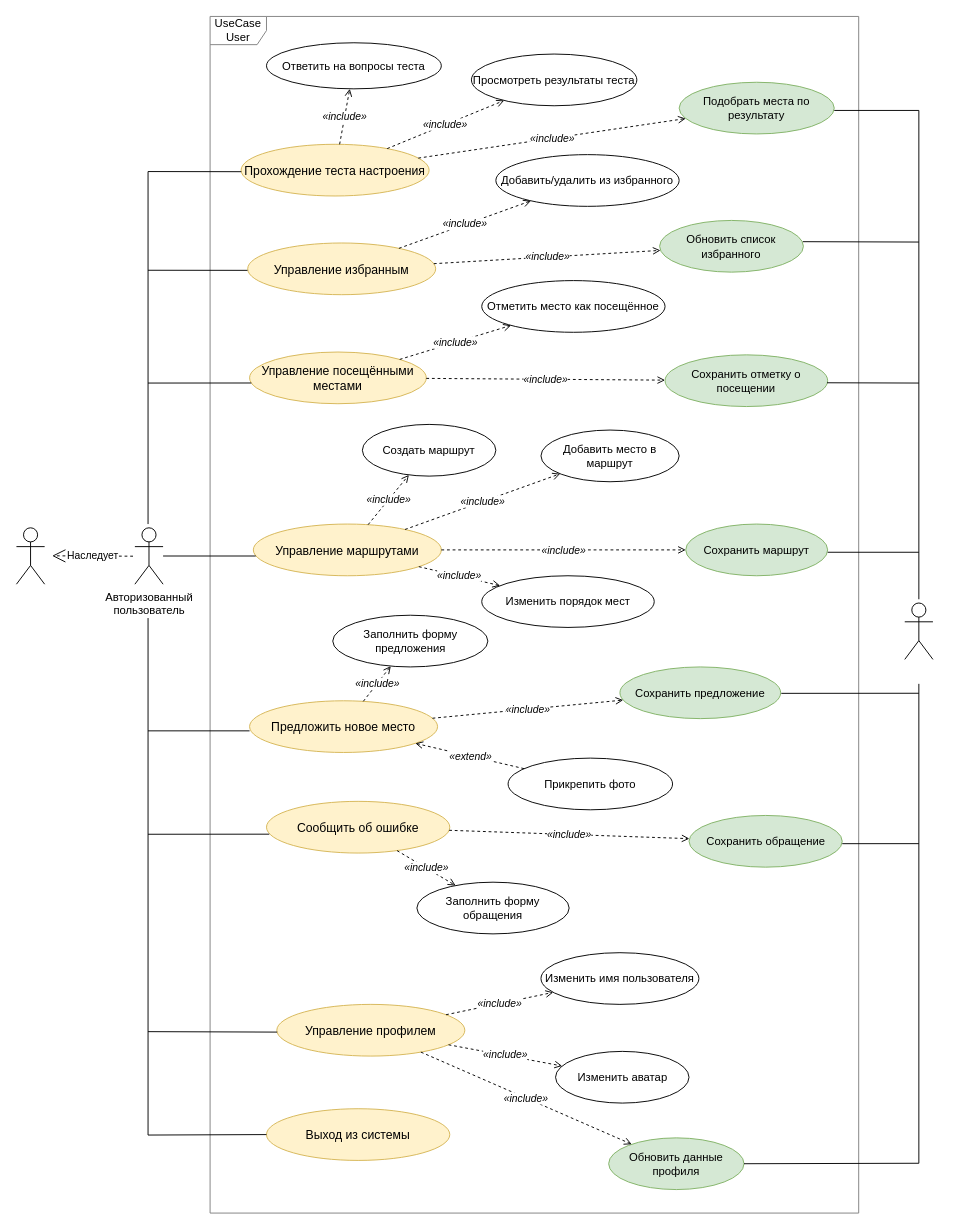
The diagram is 958 pixels wide and 1230 high, and some of its shapes have lost their labels. The shapes that lost their labels are listed below. From the top down, each one's box as (x1, y1, x2, y2) in pixels, then its label:
(16, 527, 45, 584): Гость
(904, 602, 933, 659): Система
